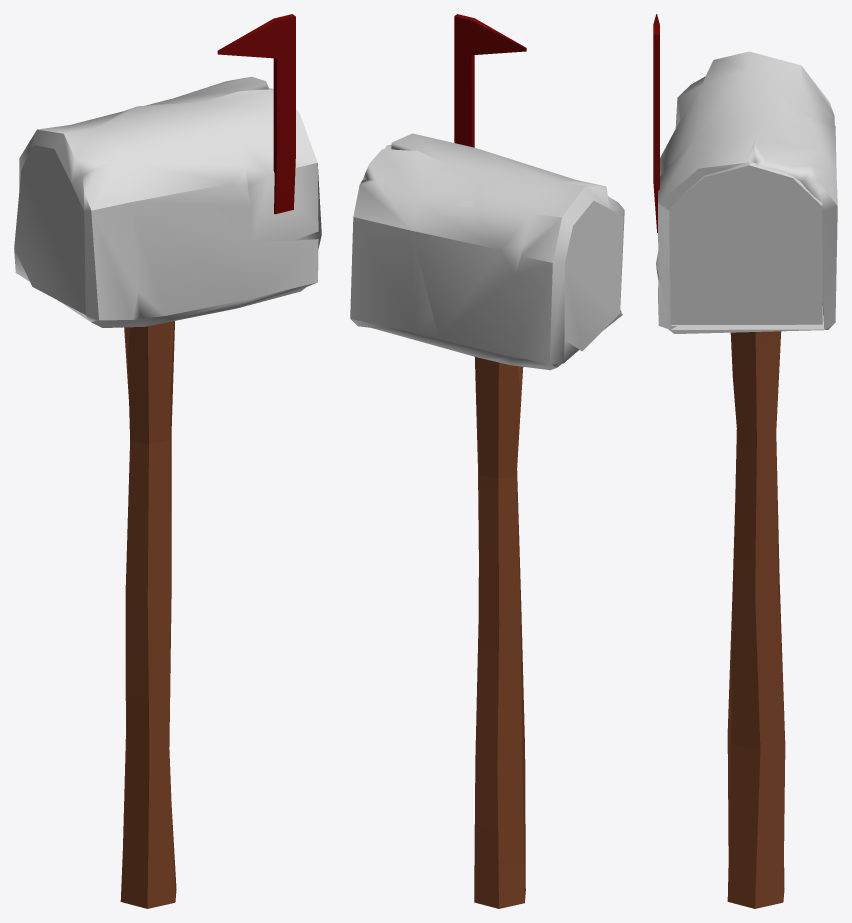
File: MailBox.obj
3 renders of one model, left to right at view 1: azimuth 30°, elevation 25°; view 2: azimuth 150°, elevation 25°; view 3: azimuth 270°, elevation 25°, orthographic. The views are drawn at different scales.
Visible parts, largest first — view 1: MailBox; view 2: MailBox; view 3: MailBox, polySurface3 pCube4.
Part boxes in pixels (x1=…): MailBox: x1=14, y1=14, x2=321, y2=908; MailBox: x1=350, y1=14, x2=624, y2=908; MailBox: x1=653, y1=14, x2=837, y2=908; polySurface3 pCube4: x1=669, y1=162, x2=822, y2=324.
Bounding box in the file's own units: 1.07 × 3.99 × 0.7343.
